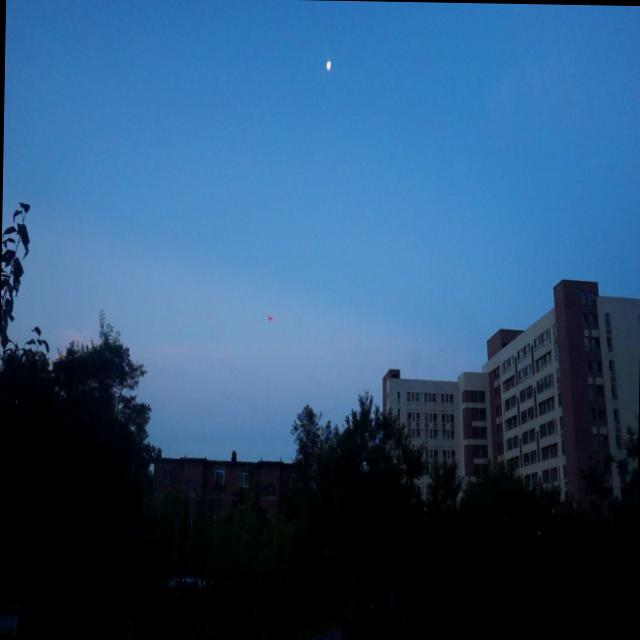drone: (266, 308, 274, 326)
